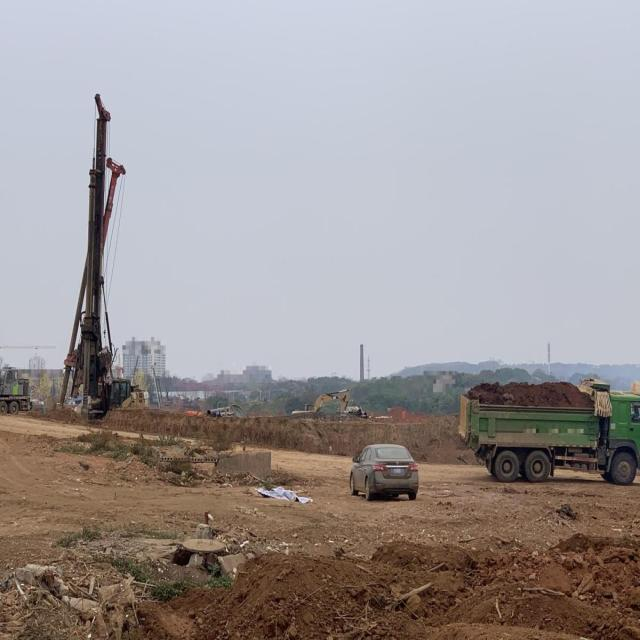excavator: (285, 383, 352, 422)
truck: (450, 372, 640, 495)
